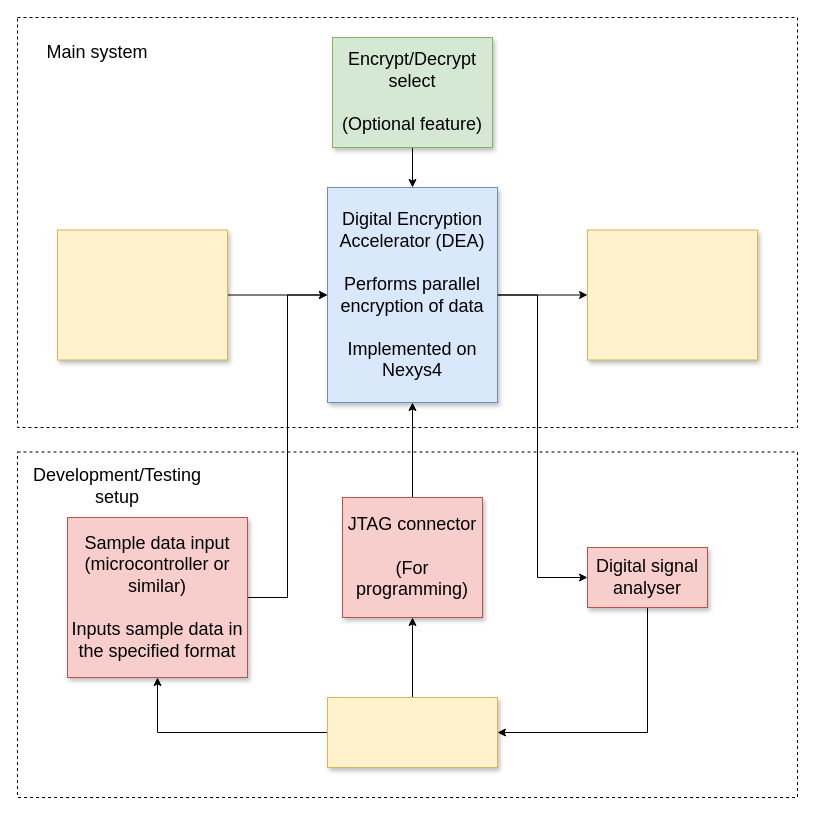
The diagram is 815 pixels wide and 815 high, and some of its shapes have lost their labels. Each missing label, with the centre of its shape:
"Data input (PC or other computing/storage device)" belongs at point (143, 296).
"Data output (PC or other computing/storage device)" belongs at point (673, 296).
"Development PC" belongs at point (413, 733).
